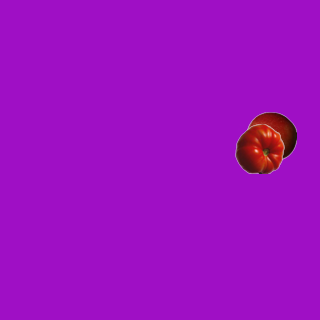Apple Braeburn: (246, 111, 296, 161)
Tomato 3: (234, 123, 284, 173)
